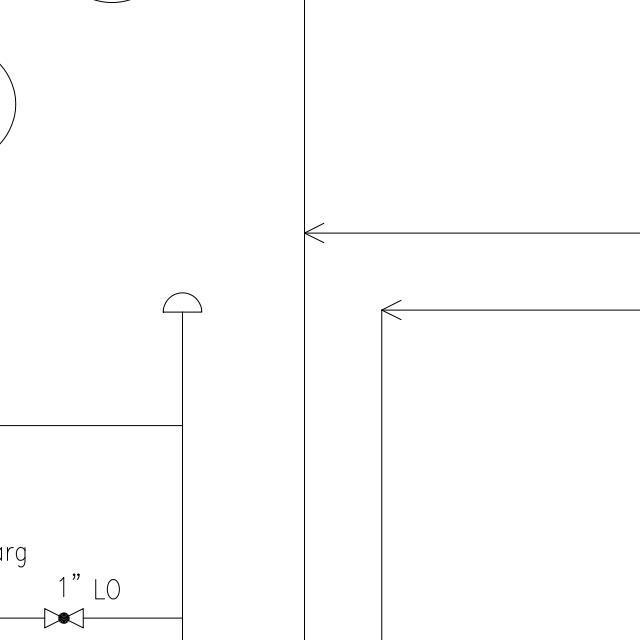BV2: (38, 601, 88, 628)
